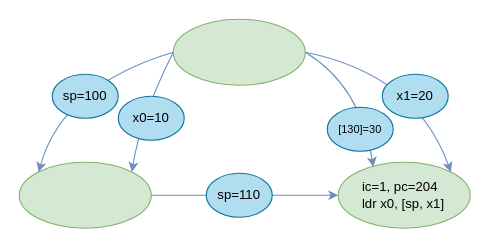
This 490x248 diagram has some shape labels left out. The centre of each missing label's shape, as x and y in pixels:
ic=0, pc=200 add sp, sp, x0: the point at 84,194
Начальное состояние: the point at 238,51
